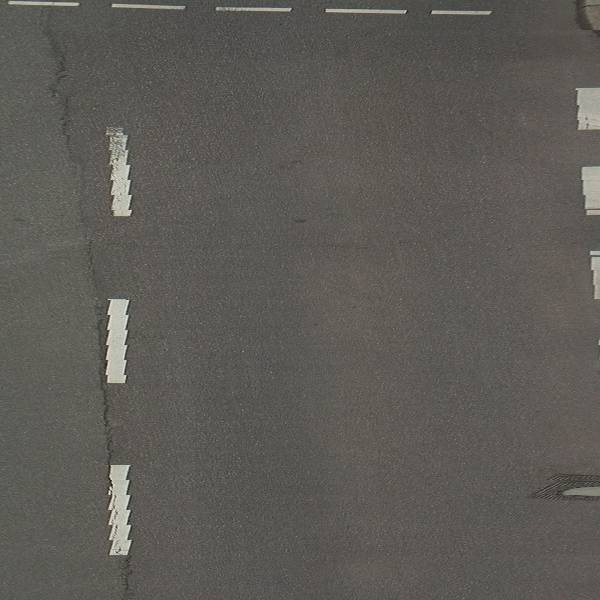road_damage: (40, 28, 103, 303)
